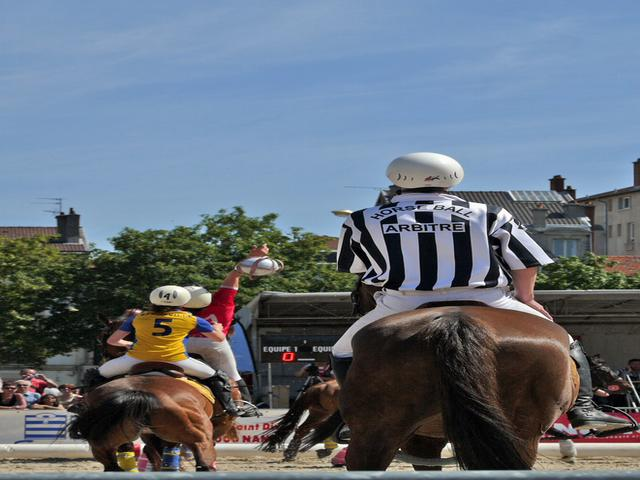horse: (329, 287, 596, 452), (58, 359, 270, 480)
